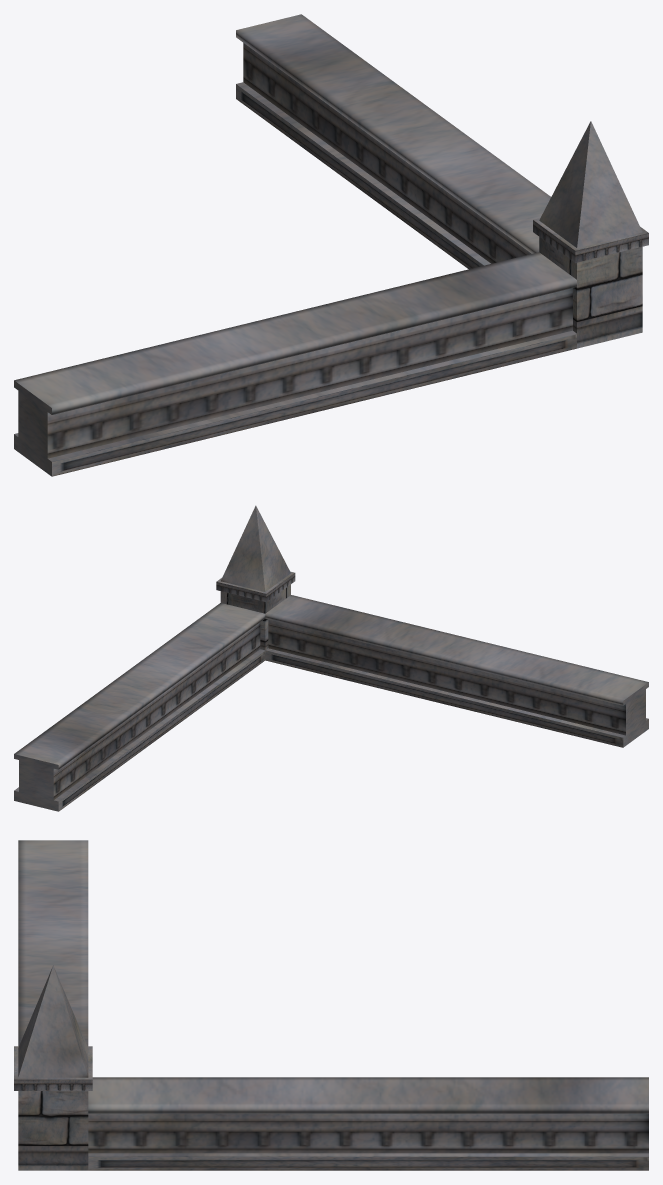
File: railing_outside_corner_01.glb
The picture shows the model from 3 angles, top to bottom: view 1: azimuth 30°, elevation 25°; view 2: azimuth 150°, elevation 25°; view 3: azimuth 270°, elevation 25°; orthographic projection. The views are drawn at different scales.
Parts seen in each view (by area): view 1: railing_outside_corner_01; view 2: railing_outside_corner_01; view 3: railing_outside_corner_01.
Boxes of the visible parts, box(x1,y1,x2,y2) form: railing_outside_corner_01: box(14, 14, 648, 476); railing_outside_corner_01: box(14, 505, 648, 811); railing_outside_corner_01: box(14, 840, 648, 1170).
Bounding box in the file's own units: 9.06 × 3 × 9.06.
1 material, 1 textured.
